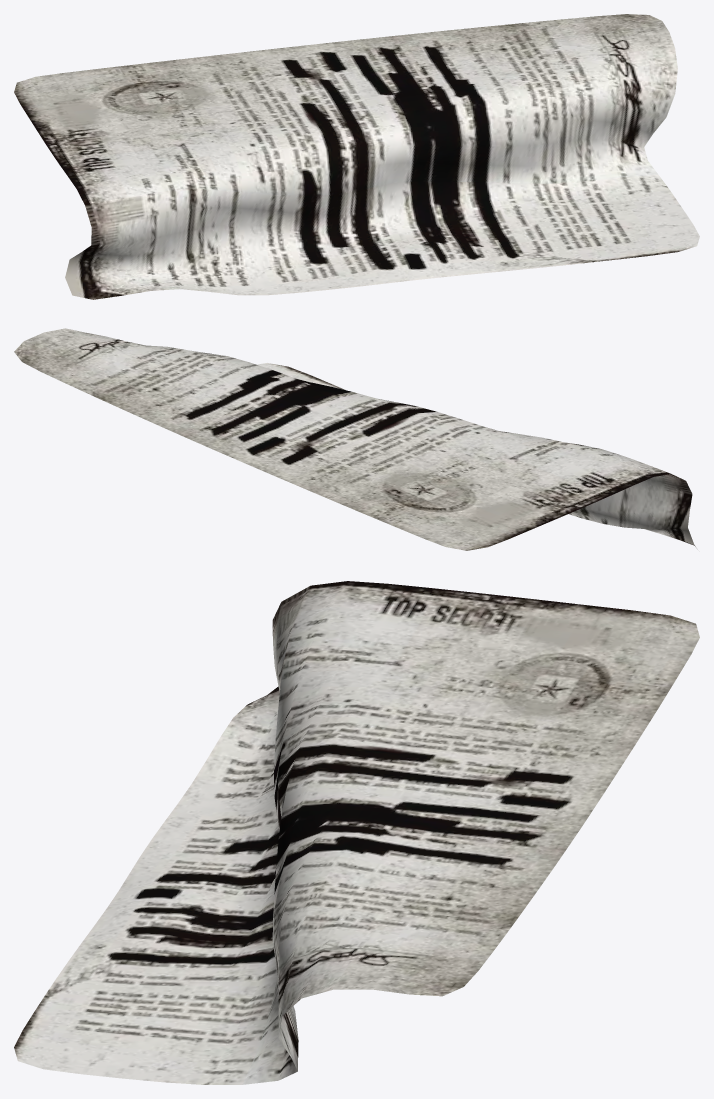
The model's file is paper_debris_c.glb.
3 views of the same model, one above another, from view 1: azimuth 30°, elevation 25°; view 2: azimuth 150°, elevation 25°; view 3: azimuth 270°, elevation 25° (orthographic). The views are drawn at different scales.
Visible parts, largest first — view 1: defaultMaterial; view 2: defaultMaterial; view 3: defaultMaterial.
Part boxes in pixels (box(x1,y1,x2,y2)): defaultMaterial: box(14, 14, 699, 299); defaultMaterial: box(14, 328, 697, 550); defaultMaterial: box(14, 581, 699, 1084).
Bounding box in the file's own units: 0.3241 × 0.048 × 0.2151.
1 material, 1 textured.
